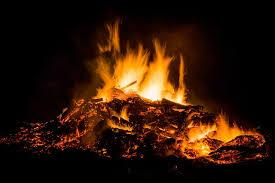fire: (69, 18, 244, 152)
